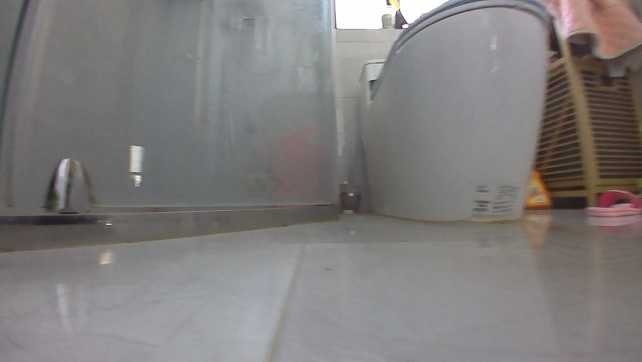slipper: (584, 185, 639, 219)
toilet: (357, 1, 555, 224)
